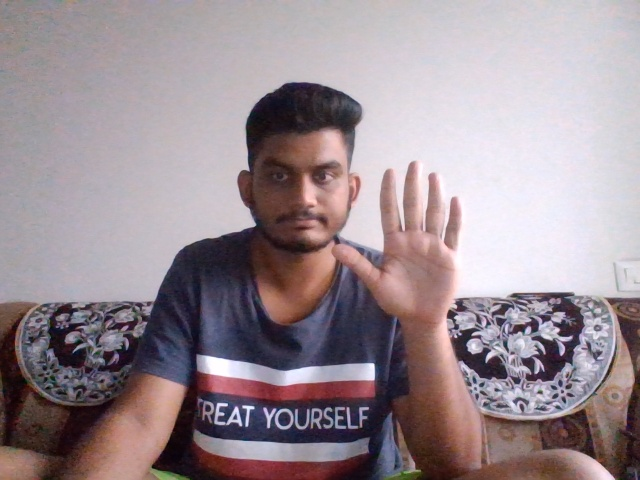Hello: (333, 163, 481, 317)
